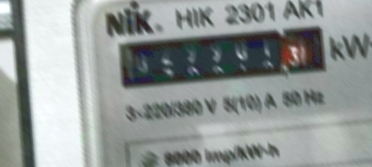0: (231, 37, 248, 63), (131, 52, 148, 75)
1: (258, 35, 272, 60)
2: (156, 44, 173, 68)
3: (284, 44, 301, 69)
9: (207, 41, 221, 65), (182, 42, 196, 64)
screen: (108, 19, 334, 99)
